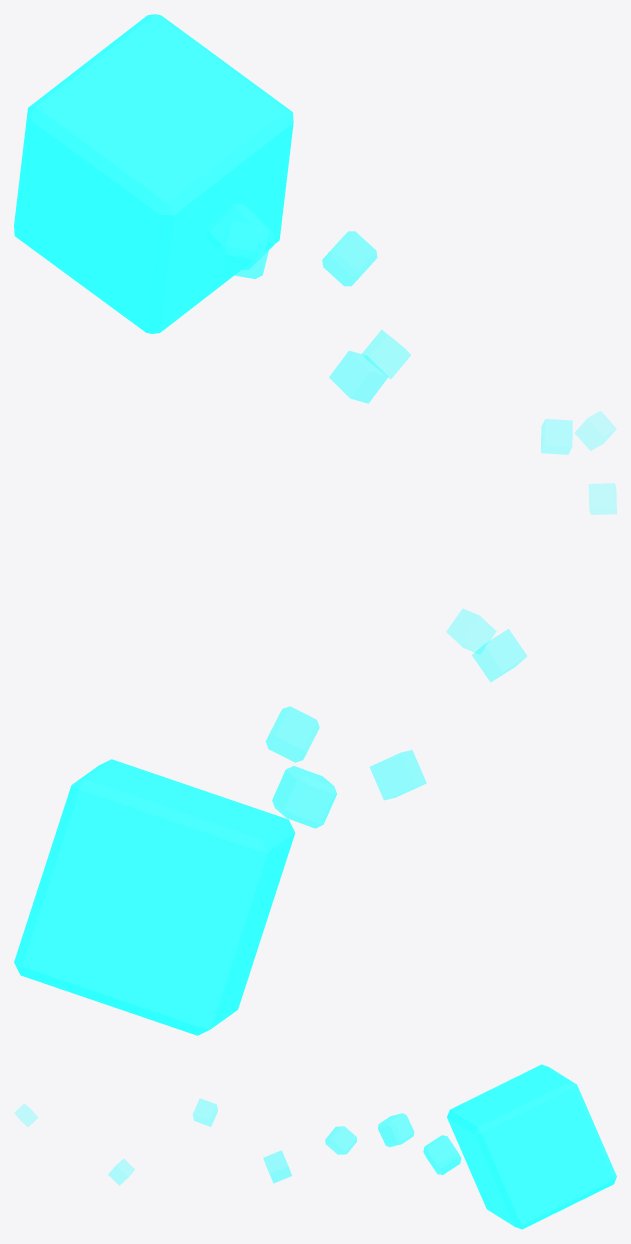
Rendered from worldroot_staff_bolt.glb.
The picture shows the model from 3 angles, top to bottom: view 1: azimuth 30°, elevation 25°; view 2: azimuth 150°, elevation 25°; view 3: azimuth 270°, elevation 25°; orthographic projection. The views are drawn at different scales.
Visible parts, largest first — view 1: Glow_Bolt, Glow_Tail_1, Glow_Tail_2, Glow_Tail_3, Glow_Tail_4, Glow_Tail_5, Glow_Tail_6, Glow_Tail_7; view 2: Glow_Bolt, Glow_Tail_2, Glow_Tail_3, Glow_Tail_4, Glow_Tail_5, Glow_Tail_6, Glow_Tail_7; view 3: Glow_Bolt, Glow_Tail_1, Glow_Tail_2, Glow_Tail_3, Glow_Tail_4, Glow_Tail_5, Glow_Tail_6, Glow_Tail_7.
Boxes of the visible parts, x1,y1,x2,y2 form: Glow_Bolt: (14, 14, 293, 333); Glow_Tail_1: (207, 203, 274, 269); Glow_Tail_2: (219, 219, 269, 279); Glow_Tail_3: (322, 231, 377, 286); Glow_Tail_4: (329, 350, 387, 403); Glow_Tail_5: (362, 330, 410, 378); Glow_Tail_6: (541, 419, 572, 454); Glow_Tail_7: (575, 411, 616, 450); Glow_Bolt: (14, 759, 295, 1035); Glow_Tail_2: (272, 766, 336, 828); Glow_Tail_3: (265, 706, 319, 762); Glow_Tail_4: (370, 750, 426, 800); Glow_Tail_5: (472, 629, 527, 682); Glow_Tail_6: (446, 609, 496, 653); Glow_Tail_7: (589, 483, 616, 514); Glow_Bolt: (447, 1064, 616, 1229); Glow_Tail_1: (423, 1135, 461, 1174); Glow_Tail_2: (378, 1113, 414, 1147); Glow_Tail_3: (325, 1126, 356, 1154); Glow_Tail_4: (263, 1150, 291, 1183); Glow_Tail_5: (192, 1098, 217, 1126); Glow_Tail_6: (108, 1159, 134, 1185); Glow_Tail_7: (14, 1103, 37, 1126).
Bounding box in the file's own units: 0.2712 × 0.2851 × 1.04.
